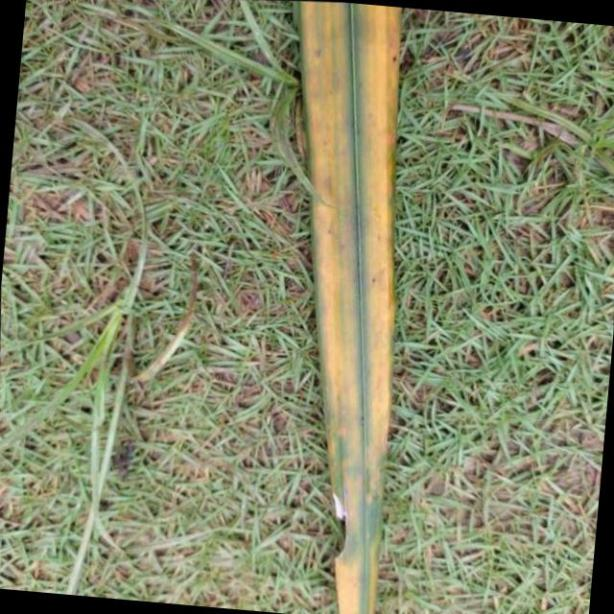Megnesium: (294, 0, 406, 614)
